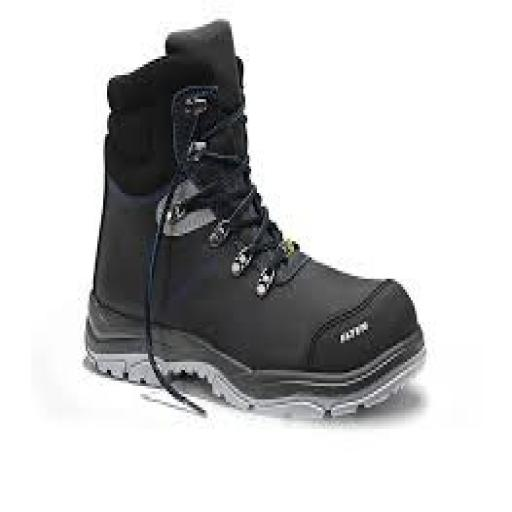safety_boots: (72, 24, 424, 423)
